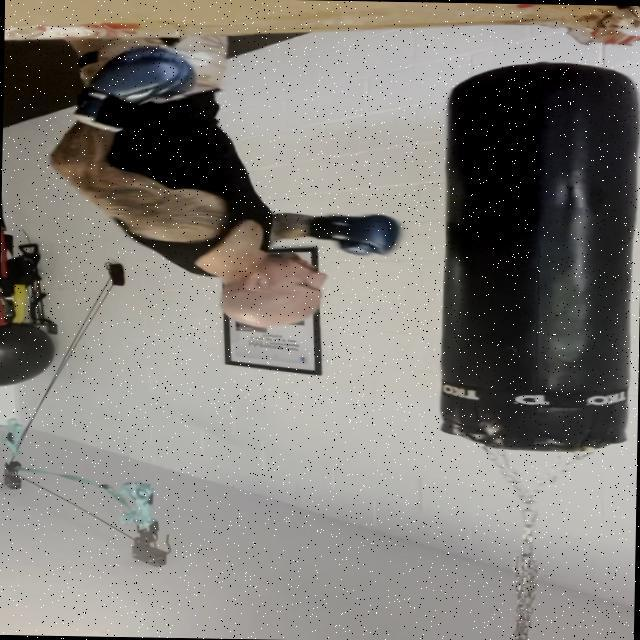bag: (415, 61, 640, 456)
uppercut: (32, 42, 409, 336)
